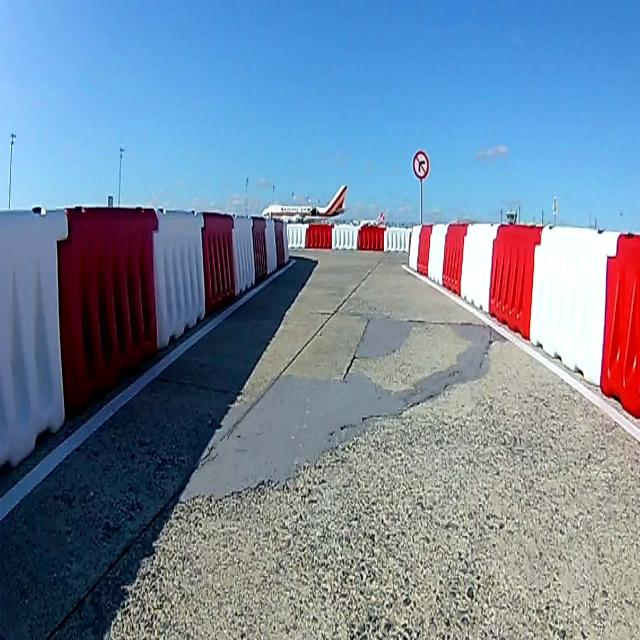sagadonulmez: (413, 152, 429, 179)
